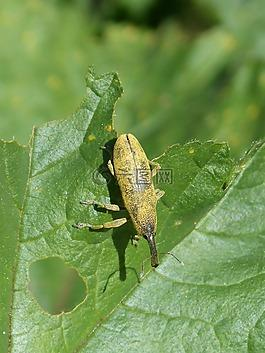Curculionidae: (71, 133, 184, 277)
